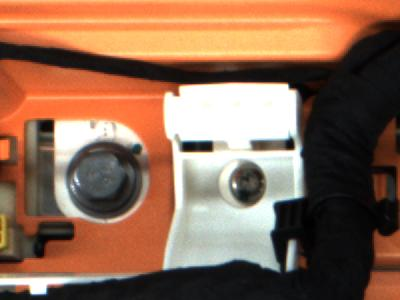nut_b: (60, 140, 149, 216)
